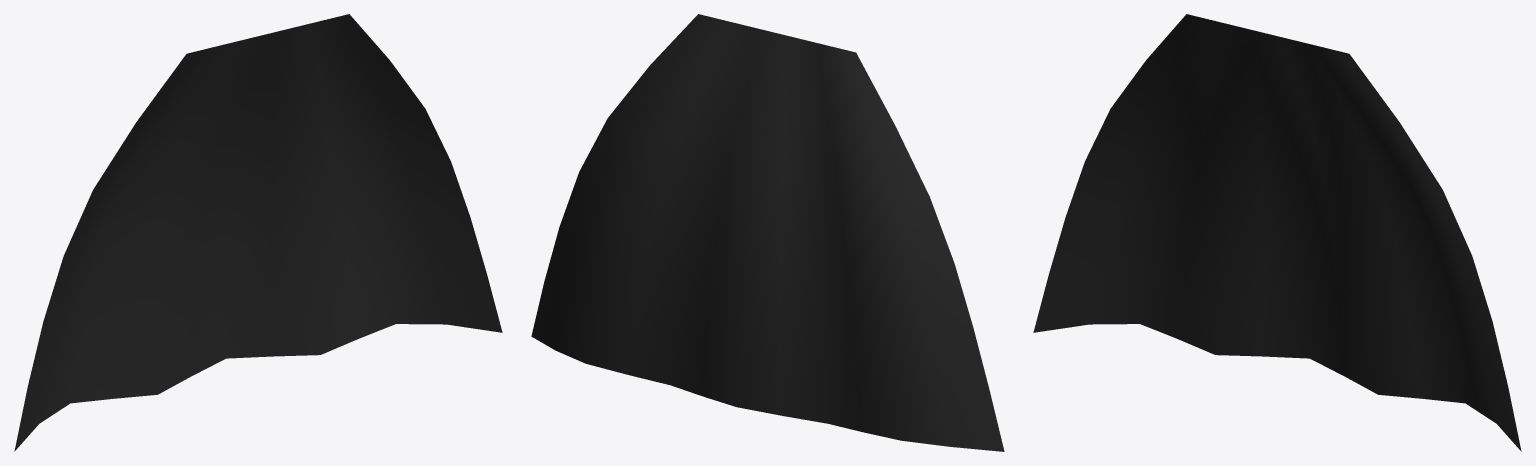
The model's file is Dracula_Cloak.fbx.
3 renders of one model, left to right at view 1: azimuth 30°, elevation 25°; view 2: azimuth 150°, elevation 25°; view 3: azimuth 330°, elevation 25°, orthographic. The views are drawn at different scales.
Parts seen in each view (by area): view 1: Dracula_Cloak; view 2: Dracula_Cloak; view 3: Dracula_Cloak.
Part boxes in pixels (box(x1,y1,x2,y2)): Dracula_Cloak: box(14, 14, 502, 451); Dracula_Cloak: box(531, 14, 1004, 451); Dracula_Cloak: box(1033, 14, 1521, 451).
Size of the model in its own units: 0.7464 by 0.534 by 0.1105.
Materials: 1 (1 with a texture image).
